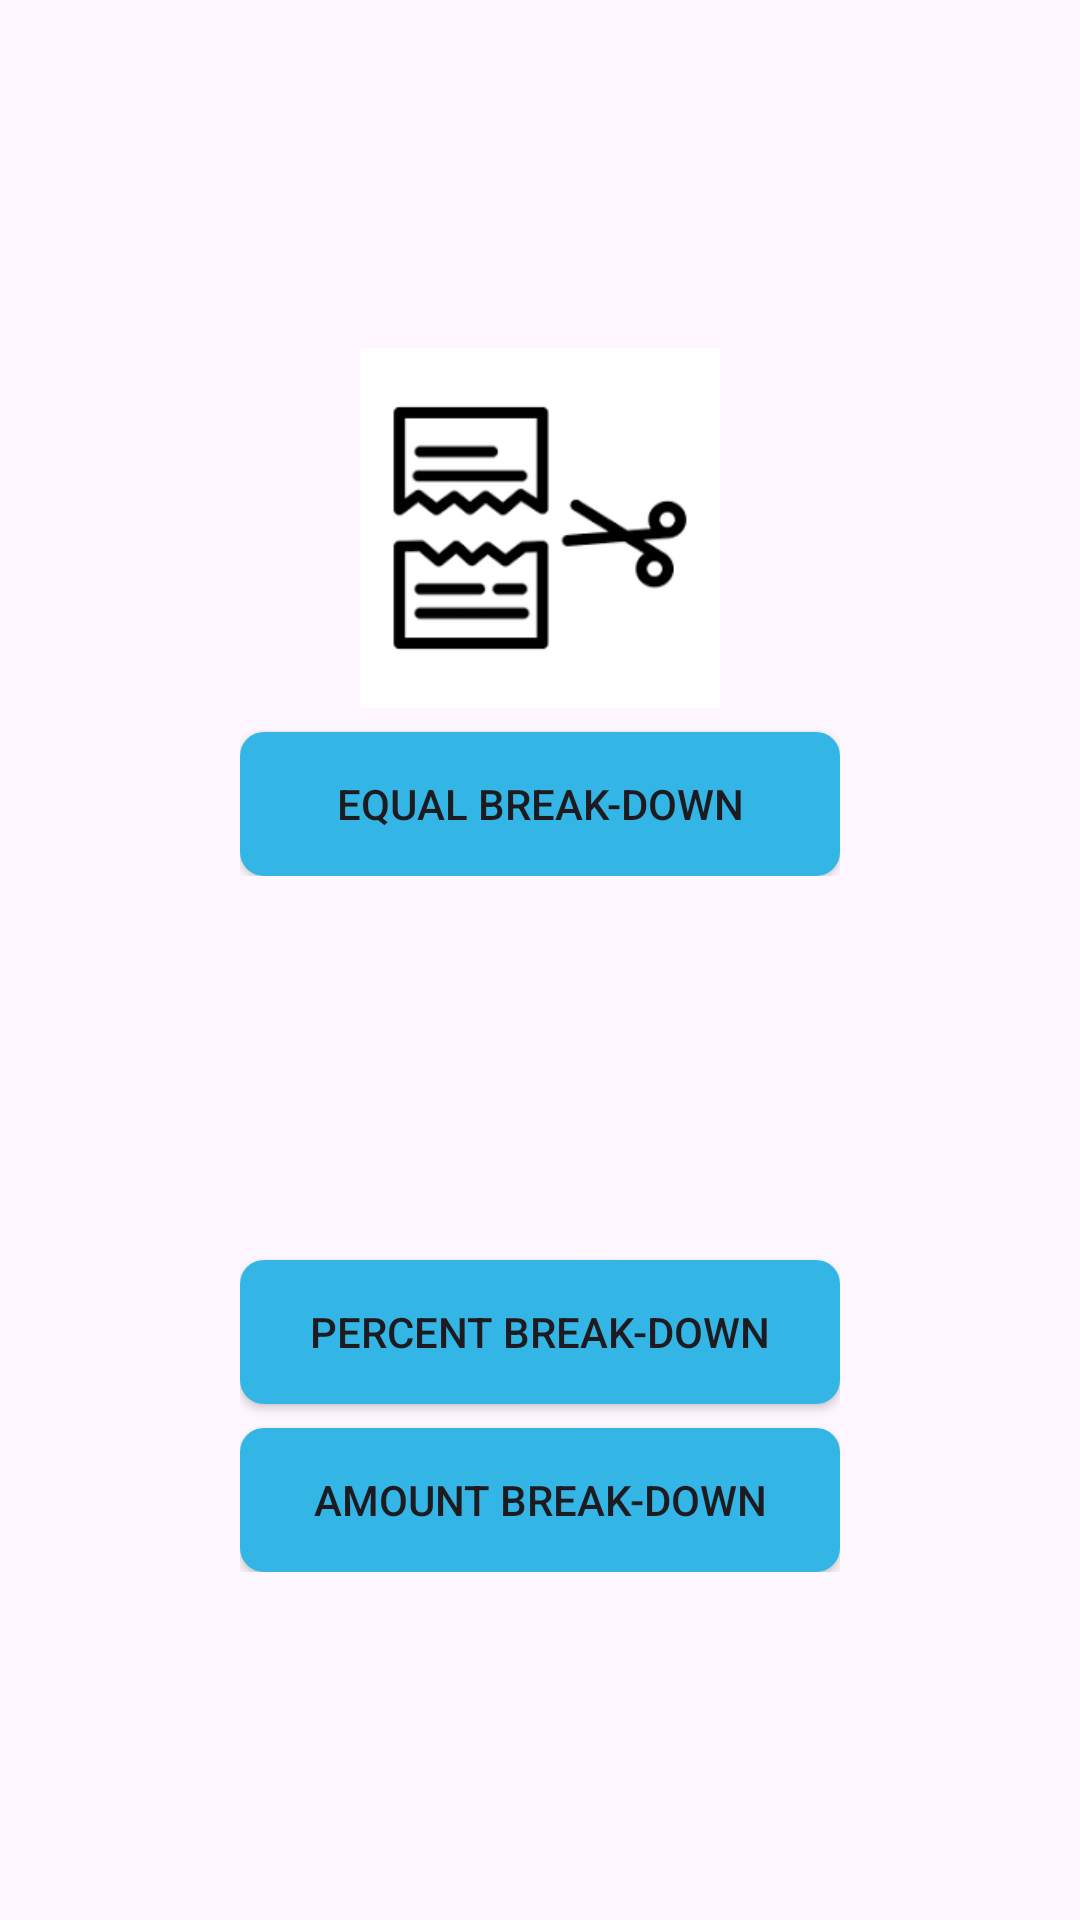

Where to tap for icons on this 1080 x 1920 app screen, as point (x, y):
Bill Splitting: point (540, 528)
